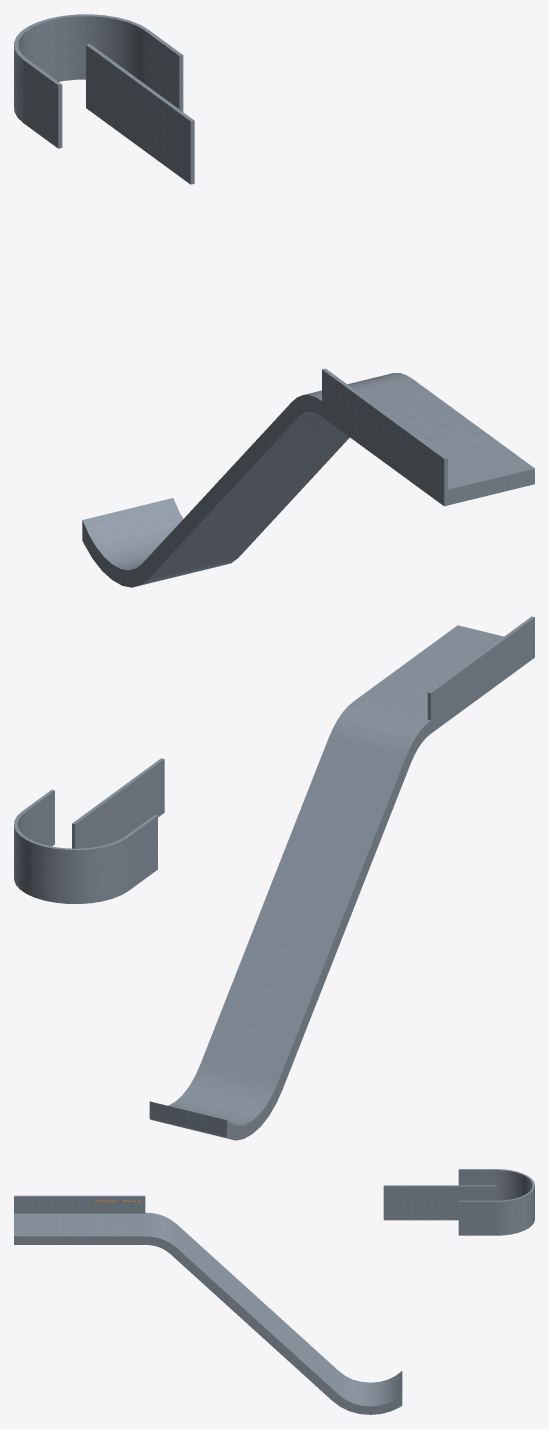
File: Geometry_ParkourDemo.FBX
3 renders of one model, top to bottom at view 1: azimuth 30°, elevation 25°; view 2: azimuth 150°, elevation 25°; view 3: azimuth 270°, elevation 25°, orthographic. The views are drawn at different scales.
Visible parts, largest first — view 1: NeoFpsPrototype_Parkour_Slide, NeoFpsPrototype_Parkour_Wallrun180, NeoFpsPrototype_Parkour_WallrunStraight; view 2: NeoFpsPrototype_Parkour_Slide, NeoFpsPrototype_Parkour_Wallrun180, NeoFpsPrototype_Parkour_WallrunStraight; view 3: NeoFpsPrototype_Parkour_Slide, NeoFpsPrototype_Parkour_Wallrun180, NeoFpsPrototype_Parkour_WallrunStraight.
Part boxes in pixels (left/top/right/bottom): NeoFpsPrototype_Parkour_Slide: left=82, top=368, right=534, bottom=587; NeoFpsPrototype_Parkour_Wallrun180: left=14, top=14, right=183, bottom=148; NeoFpsPrototype_Parkour_WallrunStraight: left=86, top=44, right=194, bottom=184; NeoFpsPrototype_Parkour_Slide: left=149, top=616, right=534, bottom=1140; NeoFpsPrototype_Parkour_Wallrun180: left=14, top=789, right=157, bottom=903; NeoFpsPrototype_Parkour_WallrunStraight: left=72, top=758, right=164, bottom=848; NeoFpsPrototype_Parkour_Slide: left=14, top=1195, right=402, bottom=1414; NeoFpsPrototype_Parkour_Wallrun180: left=458, top=1169, right=534, bottom=1235; NeoFpsPrototype_Parkour_WallrunStraight: left=383, top=1185, right=496, bottom=1220.
Size of the model in its own units: 1013 by 5554 by 2700.
